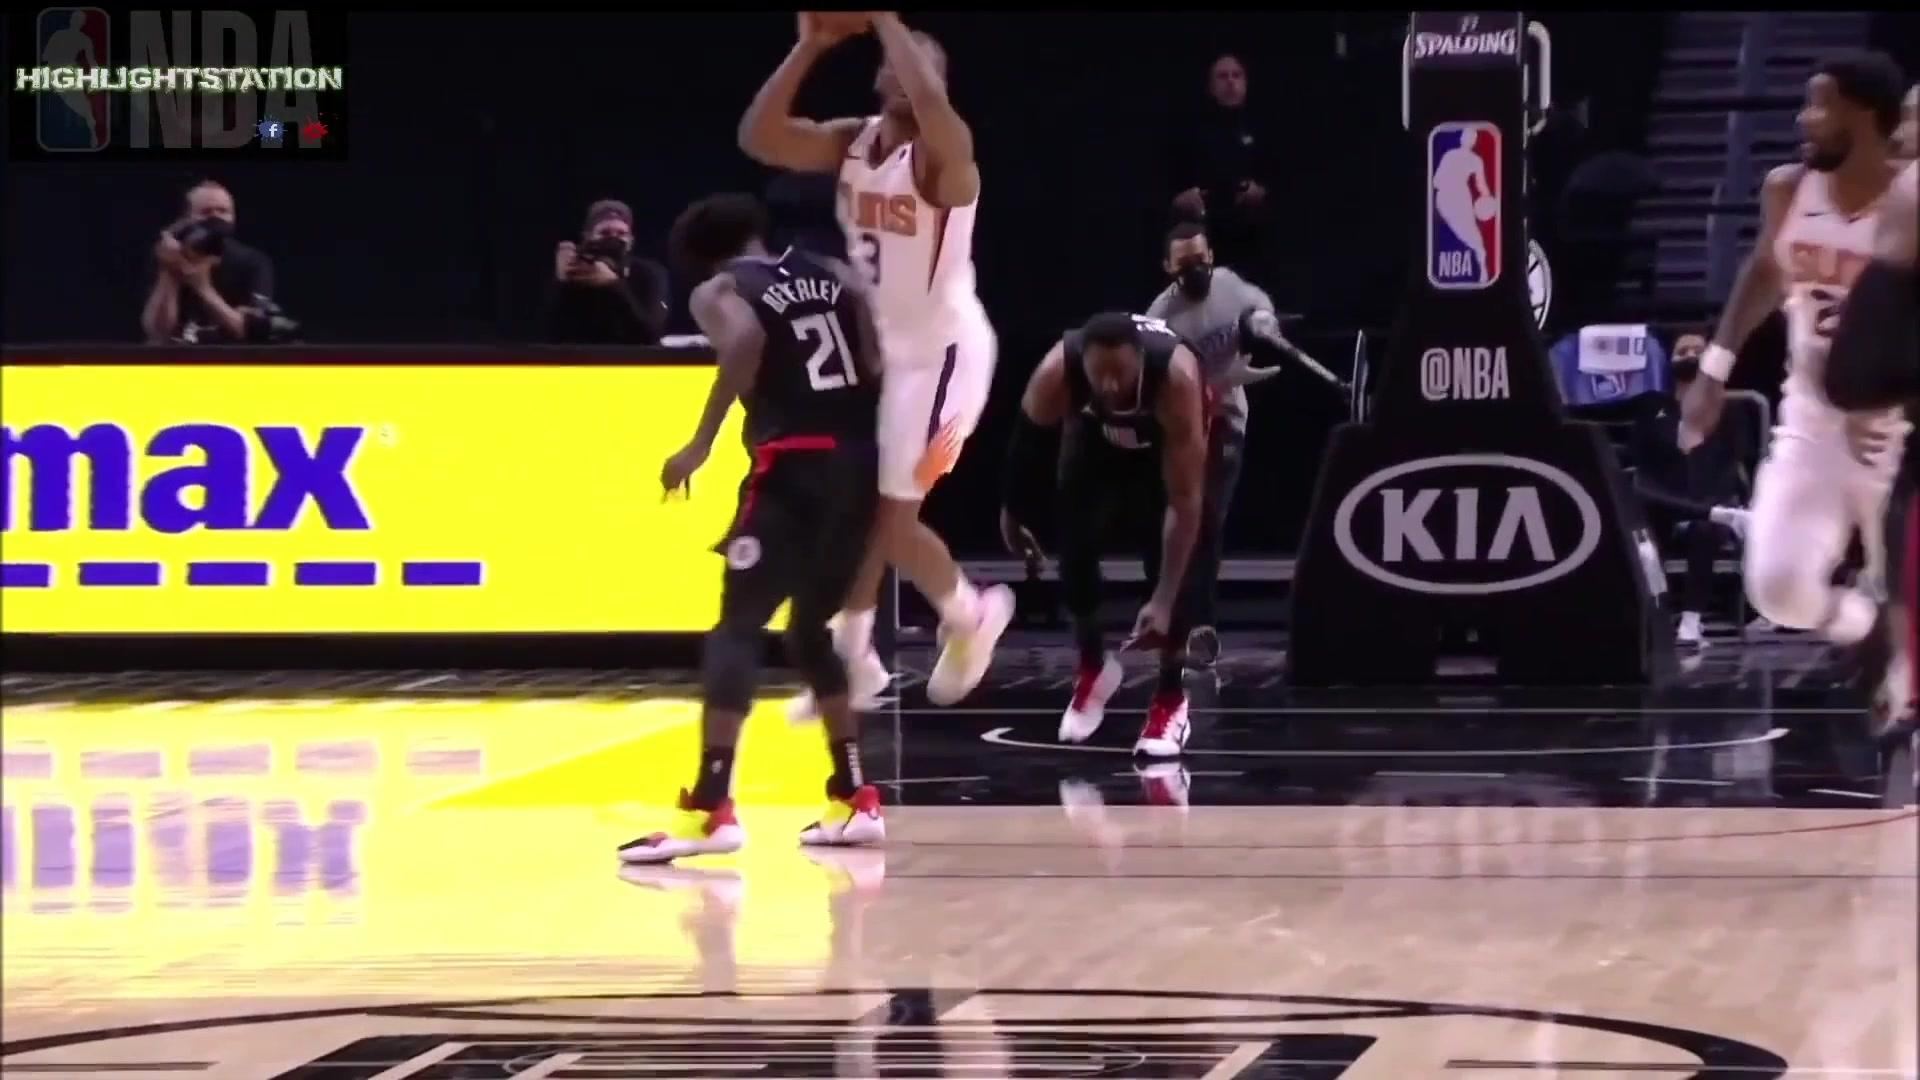foul: (615, 22, 1051, 869)
